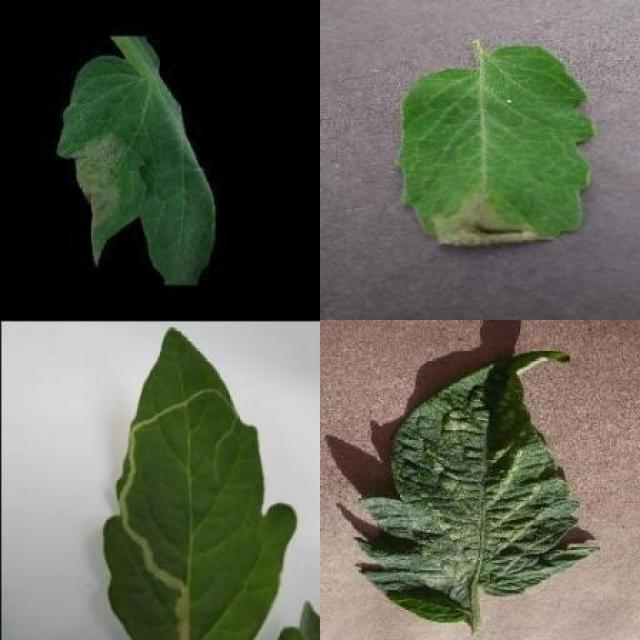Late Blight: (395, 46, 595, 251), (56, 51, 216, 286)
Leaf Miner: (100, 325, 300, 640)
Spider Mites: (360, 348, 600, 621)
